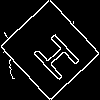H: (25, 25, 82, 83)
